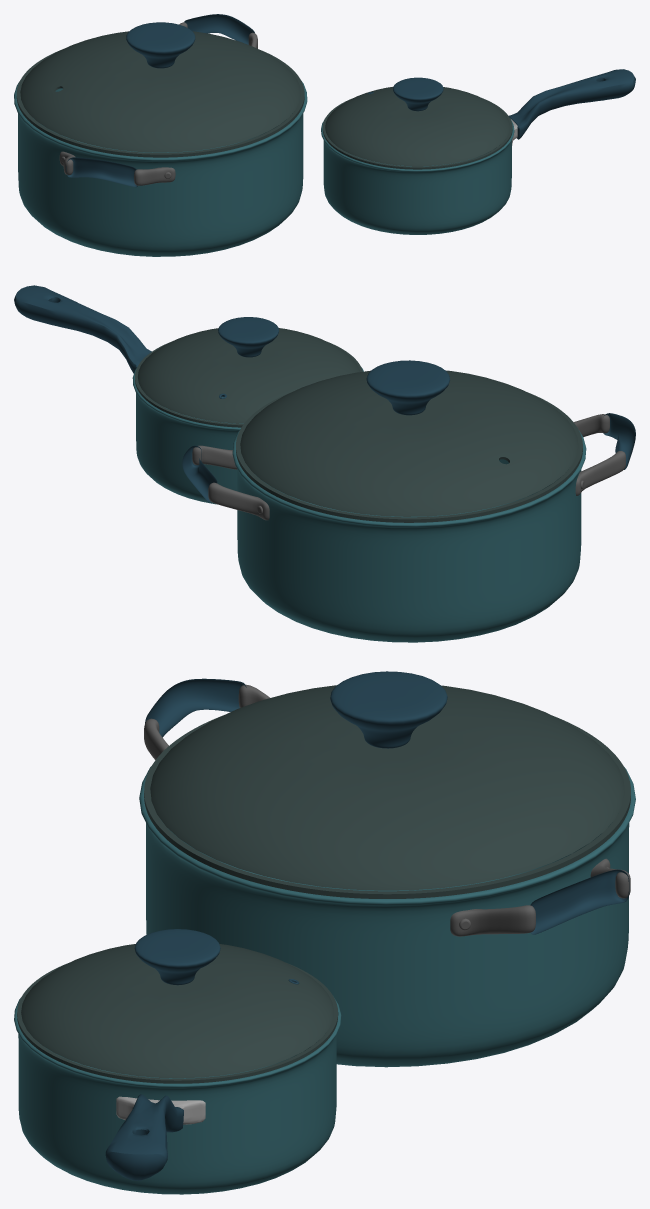
File: pots.fbx
The picture shows the model from 3 angles, top to bottom: view 1: azimuth 30°, elevation 25°; view 2: azimuth 150°, elevation 25°; view 3: azimuth 270°, elevation 25°; orthographic projection. The views are drawn at different scales.
Parts seen in each view (by area): view 1: body pot, Subdivision_Surface.1_1, Subdivision_Surface_1, ring.001; view 2: body pot, Subdivision_Surface.1_1, ring.001, Subdivision_Surface_1; view 3: Subdivision_Surface.1_1, body pot, ring.001, Subdivision_Surface_1.
Part boxes in pixels (box(x1,y1,x2,y2)): body pot: box(14, 14, 307, 256); Subdivision_Surface.1_1: box(16, 22, 304, 157); Subdivision_Surface_1: box(321, 69, 635, 234); ring.001: box(322, 77, 512, 169); body pot: box(182, 413, 635, 642); Subdivision_Surface.1_1: box(236, 360, 582, 522); ring.001: box(135, 317, 362, 427); Subdivision_Surface_1: box(14, 285, 363, 504); Subdivision_Surface.1_1: box(144, 671, 630, 898); body pot: box(139, 678, 635, 1067); ring.001: box(17, 929, 338, 1083); Subdivision_Surface_1: box(14, 996, 341, 1194).
Size of the model in its own units: 76.29 by 23.72 by 45.35.
